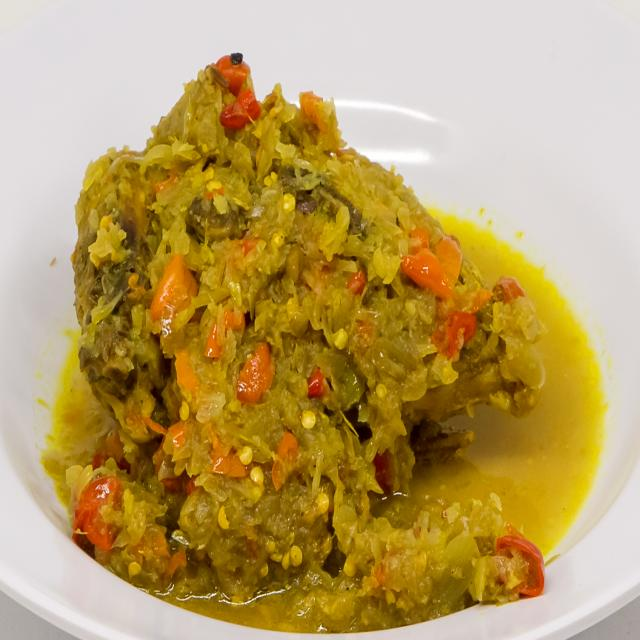Ayam-Betutu: (49, 30, 548, 619)
